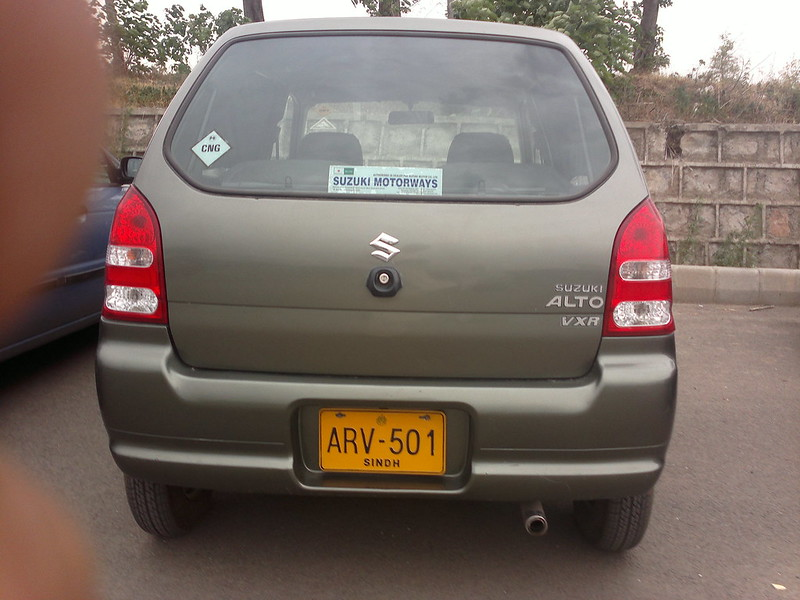number_plate: (298, 402, 458, 480)
